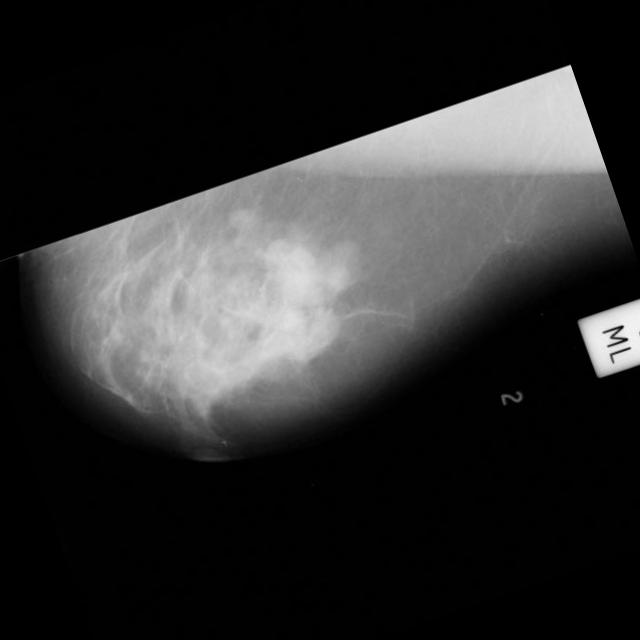MISC: (248, 228, 343, 322)
